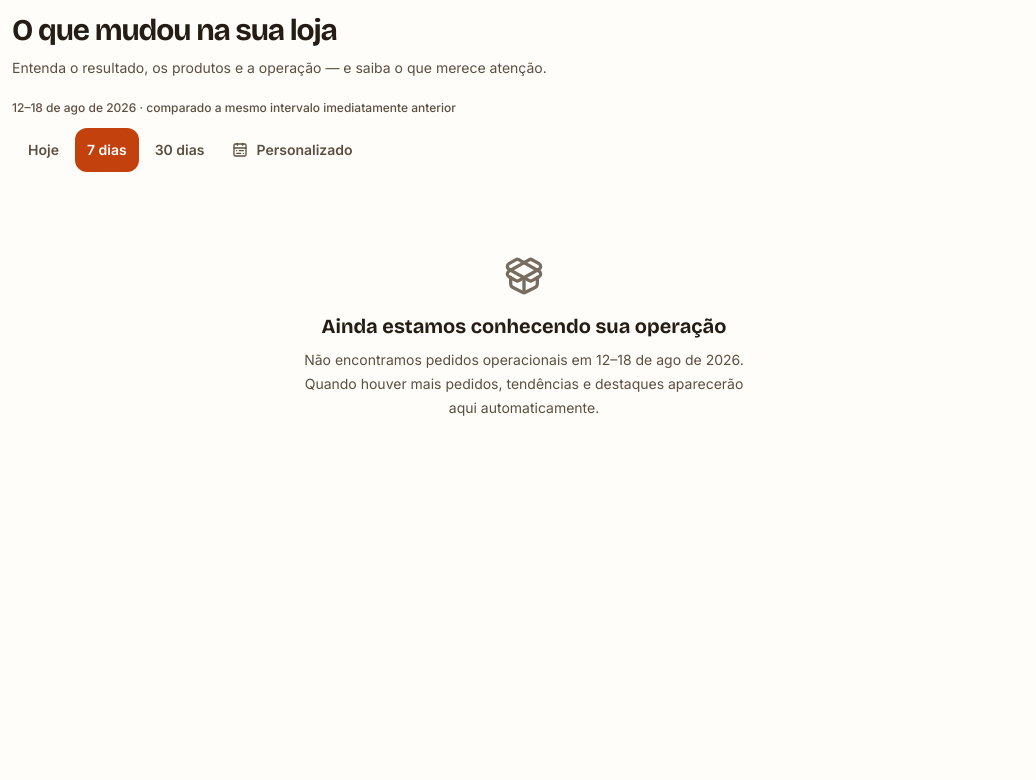
interface dos relatórios avançados V2 › mostra vazio e erro sem expor estruturas incompletas
Expected: the heading "Ainda estamos conhecendo sua operação" is shown, [322,314,726,338]
Click the button "30 dias": (180, 150) [143,128,216,172]
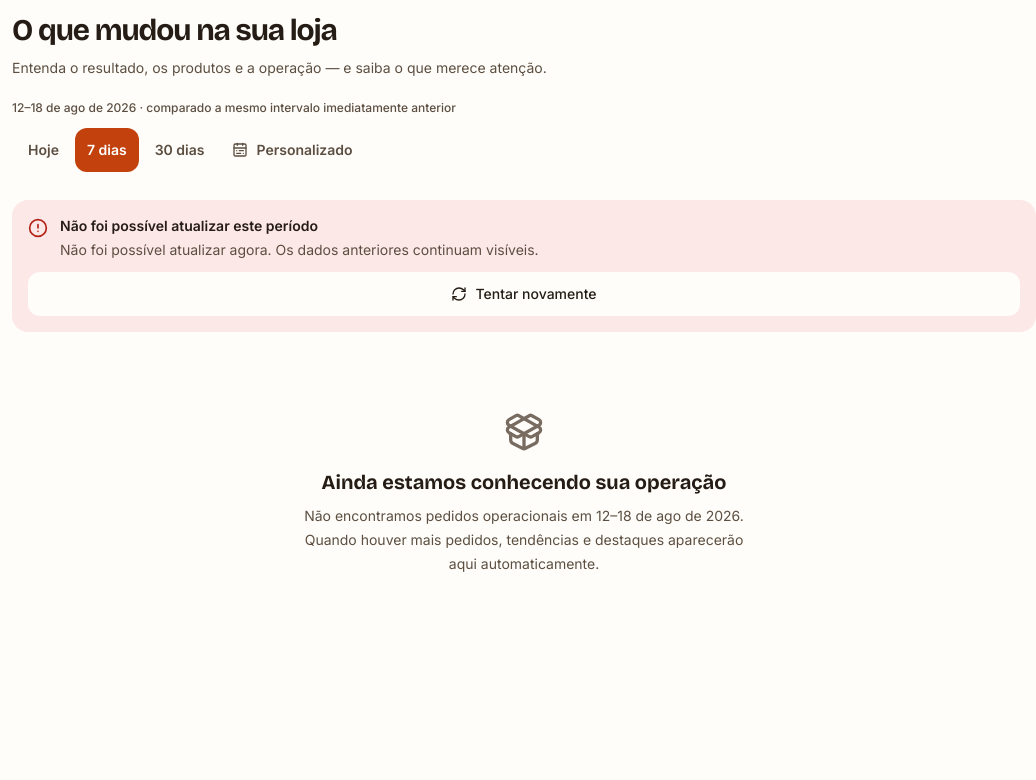
Expected: the message shows "Não foi possível atualizar agora.", [60,241,272,258]
